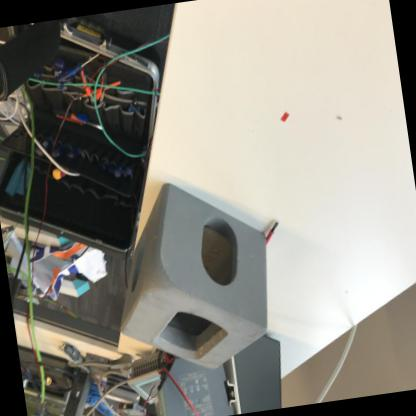CornerCasting: (99, 170, 285, 386)
